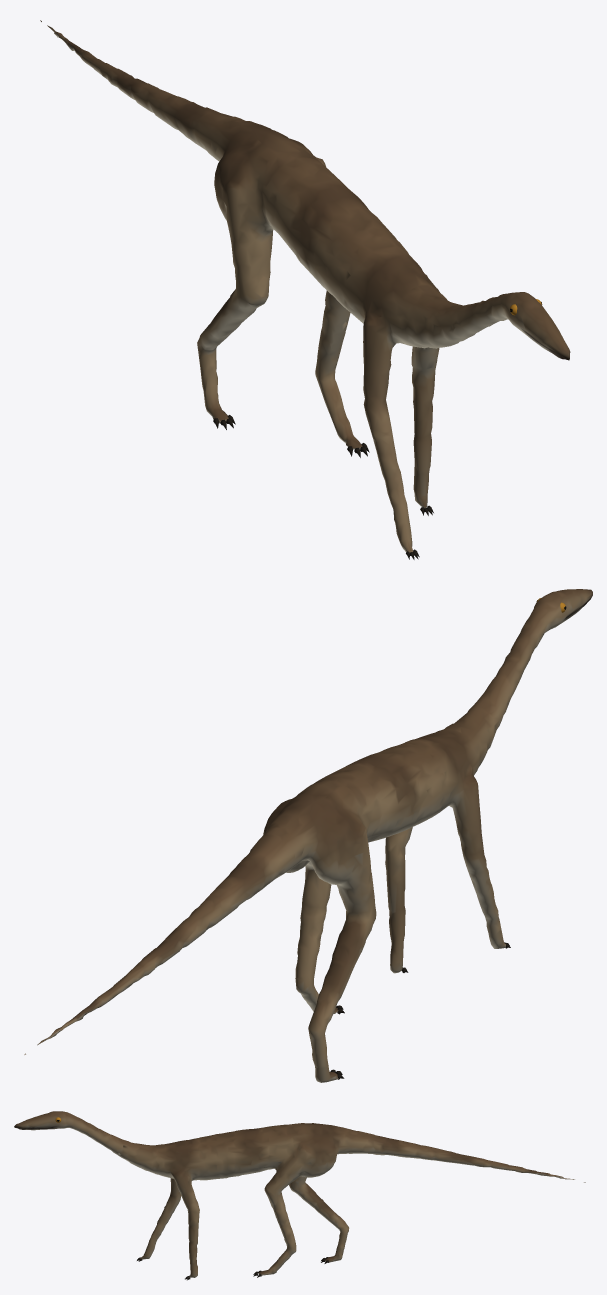
The model's file is Silesaurus.fbx.
The picture shows the model from 3 angles, top to bottom: view 1: azimuth 30°, elevation 25°; view 2: azimuth 150°, elevation 25°; view 3: azimuth 270°, elevation 25°; orthographic projection. The views are drawn at different scales.
Visible parts, largest first — view 1: Silesaurus; view 2: Silesaurus; view 3: Silesaurus.
Part boxes in pixels (x1,y1,x2,y2): Silesaurus: (40,20,570,559); Silesaurus: (24,589,592,1082); Silesaurus: (14,1111,585,1280).
Size of the model in its own units: 0.1921 by 0.6068 by 1.99.
